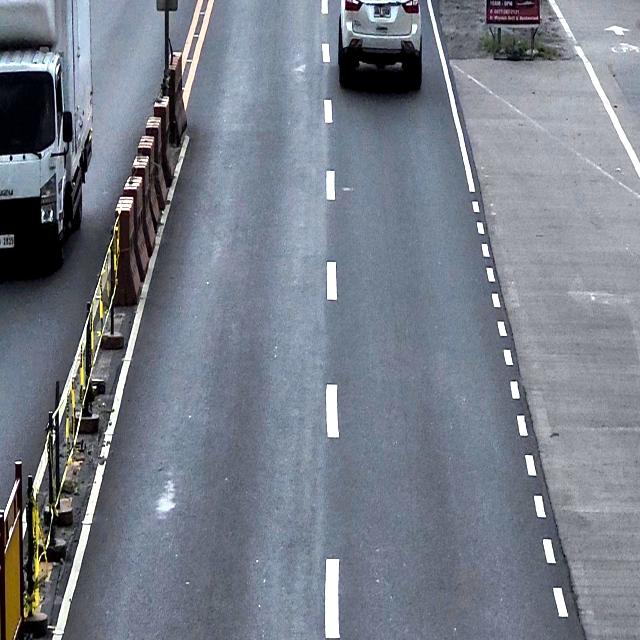Car: (338, 0, 422, 93)
License-Plate: (374, 5, 392, 19), (0, 234, 16, 249)
Truck: (0, 0, 93, 269)
